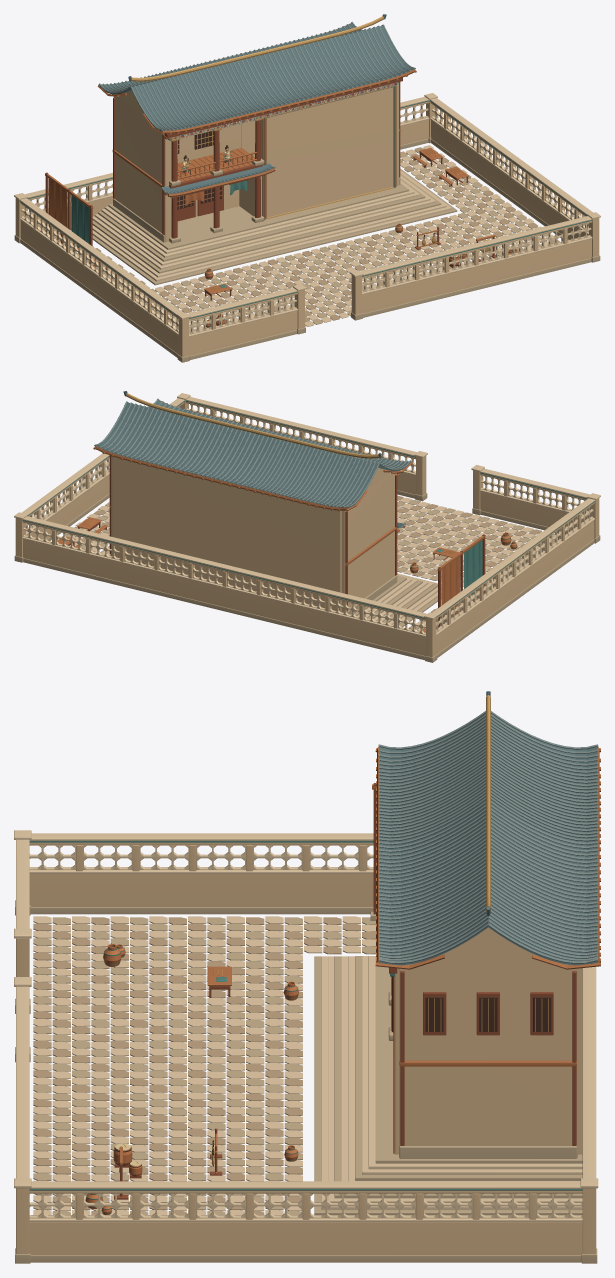
File: music-pavilion.glb
3 renders of one model, top to bottom at view 1: azimuth 30°, elevation 25°; view 2: azimuth 150°, elevation 25°; view 3: azimuth 270°, elevation 25°, orthographic. The views are drawn at different scales.
Parts seen in each view (by area): view 1: architecture--plaster.001, courtyard-enclosure--plaster.001, courtyard-enclosure--stone-light.001, main-roof--tile.001, court-paving--stone-light.001, terraced-foundation--stone-light, terraced-foundation--stone, main-roof--tile-edge.001, court-paving--stone-shadow.001, court-paving--stone.001, courtyard-enclosure--stone, porch--wood.001 (+16 smaller); view 2: architecture--plaster.001, courtyard-enclosure--plaster.001, courtyard-enclosure--stone-light.001, main-roof--tile.001, main-roof--tile-edge.001, court-paving--stone-light.001, courtyard-enclosure--stone, court-paving--stone-shadow.001, court-paving--stone.001, courtyard-enclosure--teal.001, terraced-foundation--stone-light, main-roof--wood-light.001 (+7 smaller); view 3: main-roof--tile-edge.001, courtyard-enclosure--plaster.001, court-paving--stone-light.001, architecture--plaster.001, courtyard-enclosure--stone-light.001, main-roof--tile.001, court-paving--stone-shadow.001, court-paving--stone.001, terraced-foundation--stone-light, terraced-foundation--stone, courtyard-enclosure--stone, mural-frame--wood.001 (+9 smaller).
Part boxes in pixels (x1,y1,x2,y2): architecture--plaster.001: [113, 85, 398, 242]; courtyard-enclosure--plaster.001: [15, 100, 599, 357]; courtyard-enclosure--stone-light.001: [14, 93, 600, 336]; main-roof--tile.001: [99, 14, 413, 131]; court-paving--stone-light.001: [76, 145, 554, 330]; terraced-foundation--stone-light: [92, 170, 451, 281]; terraced-foundation--stone: [92, 168, 457, 285]; main-roof--tile-edge.001: [98, 21, 415, 131]; court-paving--stone-shadow.001: [93, 147, 559, 328]; court-paving--stone.001: [76, 149, 548, 332]; courtyard-enclosure--stone: [14, 137, 600, 362]; porch--wood.001: [169, 120, 262, 238]; architecture--plaster.001: [111, 456, 396, 612]; courtyard-enclosure--plaster.001: [15, 400, 599, 657]; courtyard-enclosure--stone-light.001: [14, 393, 600, 637]; main-roof--tile.001: [96, 391, 410, 508]; main-roof--tile-edge.001: [94, 398, 411, 508]; court-paving--stone-light.001: [58, 497, 557, 631]; courtyard-enclosure--stone: [14, 490, 600, 662]; court-paving--stone-shadow.001: [73, 495, 557, 629]; court-paving--stone.001: [62, 500, 554, 621]; courtyard-enclosure--teal.001: [22, 400, 595, 618]; terraced-foundation--stone-light: [101, 547, 441, 624]; main-roof--wood-light.001: [93, 400, 412, 511]; main-roof--tile-edge.001: [378, 711, 598, 963]; courtyard-enclosure--plaster.001: [16, 842, 596, 1255]; court-paving--stone-light.001: [33, 916, 375, 1214]; architecture--plaster.001: [394, 964, 582, 1157]; courtyard-enclosure--stone-light.001: [14, 830, 598, 1222]; main-roof--tile.001: [379, 691, 597, 965]; court-paving--stone-shadow.001: [33, 917, 375, 1214]; court-paving--stone.001: [33, 917, 375, 1214]; terraced-foundation--stone-light: [321, 956, 582, 1209]; terraced-foundation--stone: [314, 956, 582, 1214]; courtyard-enclosure--stone: [15, 900, 597, 1263]; mural-frame--wood.001: [400, 971, 576, 1145].
Bounding box in the file's own units: 46.98 × 17.83 × 32.78.
Materials: 18 (1 with a texture image).
